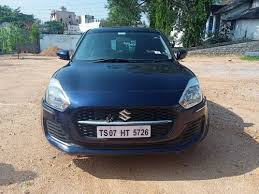Swift: (39, 24, 212, 159)
